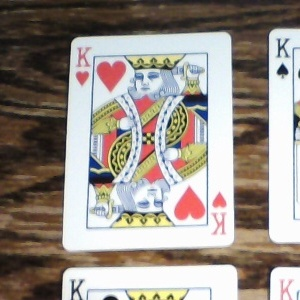card: (63, 30, 236, 249)
